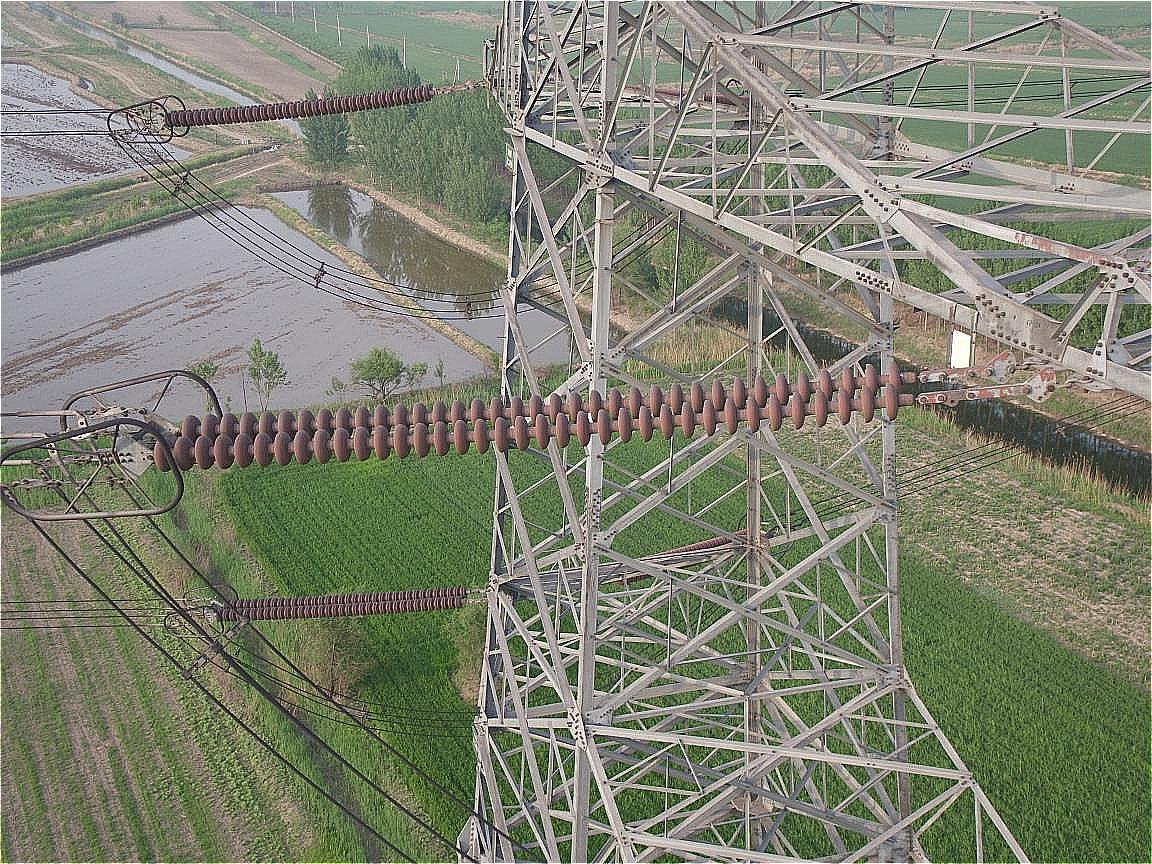insultor1: (152, 362, 902, 472)
insultor2: (164, 82, 434, 129), (217, 583, 466, 624)
